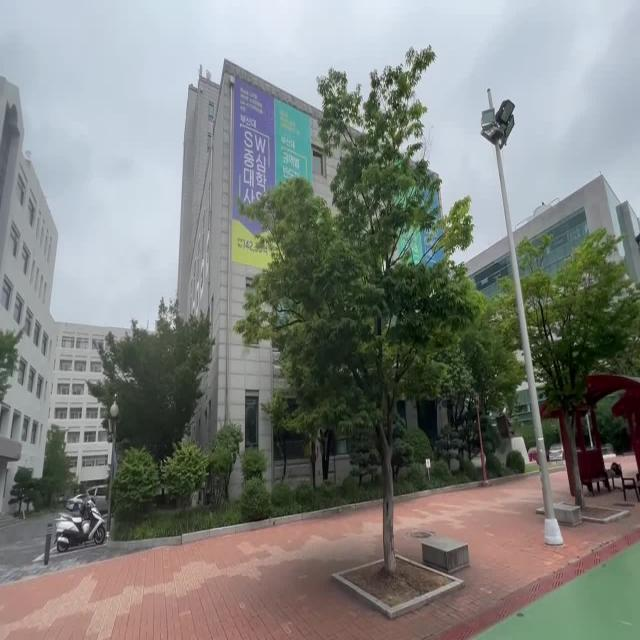building: (172, 62, 272, 294)
